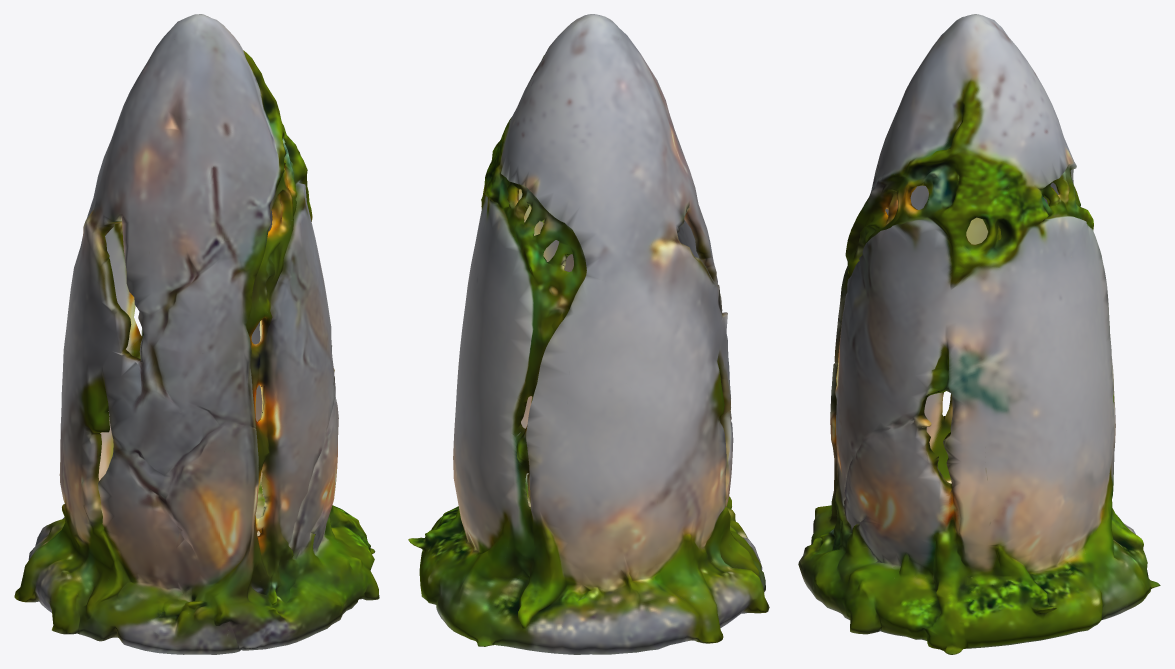
File: monolith_egg_lowpoly.glb
3 renders of one model, left to right at view 1: azimuth 30°, elevation 25°; view 2: azimuth 150°, elevation 25°; view 3: azimuth 270°, elevation 25°, orthographic.
Parts seen in each view (by area): view 1: geometry_0; view 2: geometry_0; view 3: geometry_0.
Boxes of the visible parts, x1=… form: geometry_0: x1=14, y1=14, x2=379, y2=654; geometry_0: x1=408, y1=14, x2=769, y2=654; geometry_0: x1=798, y1=14, x2=1160, y2=654.
Size of the model in its own units: 0.5703 by 0.9512 by 0.5576.
1 material, 1 textured.
